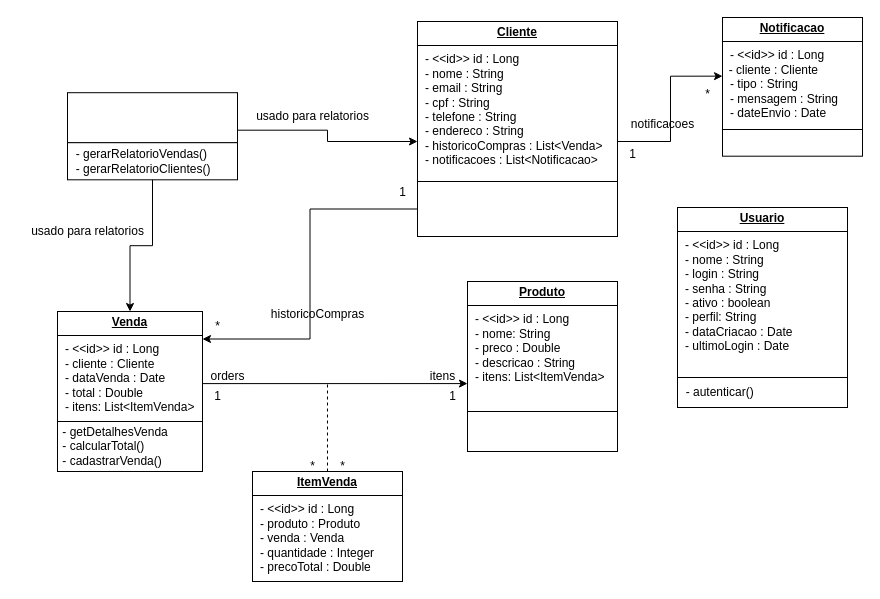
The diagram is 880 pixels wide and 599 high, and some of its shapes have lost their labels. The shapes that lost their labels are listed below. From the top down, each one's centre as x and y in pixels, then its label:
At (152,117): "Relatorio - <<id>> id : Long".
At (792,142): "- enviarNotificacao()".
At (517,208): "- getDetalhesCliente() - adicionarHistorico() - cadastrarCliente()".
At (542,431): "- getDetalhesProduto() - cadastrarProduto()".
